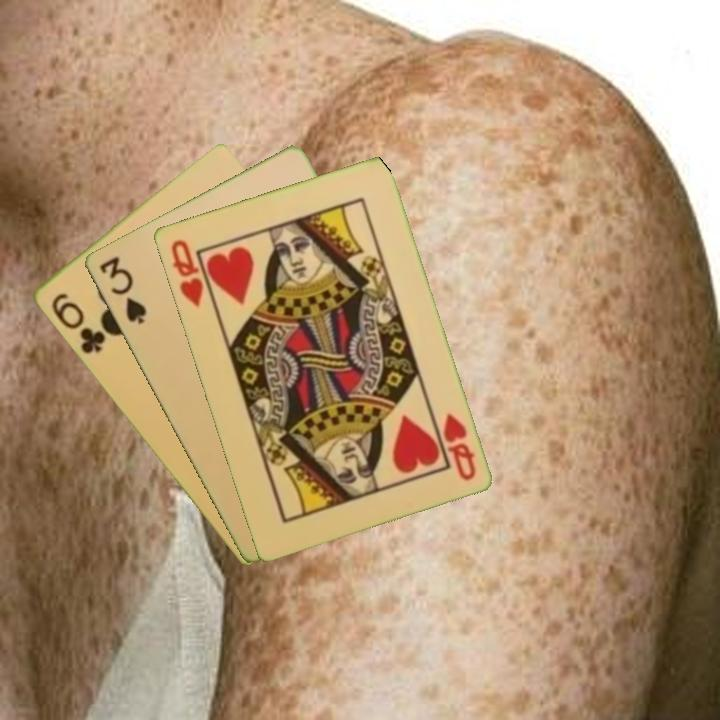3s: (95, 253, 149, 327)
6c: (47, 289, 108, 357)
Qh: (167, 235, 215, 310), (438, 409, 479, 484)
